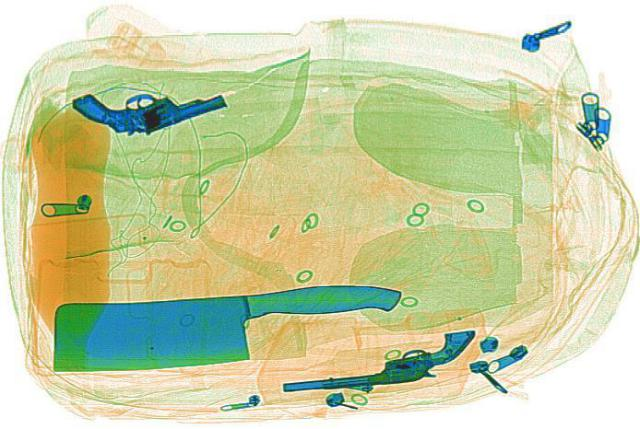Gun: (264, 323, 496, 410), (68, 76, 234, 139)
Knife: (33, 271, 417, 380)
